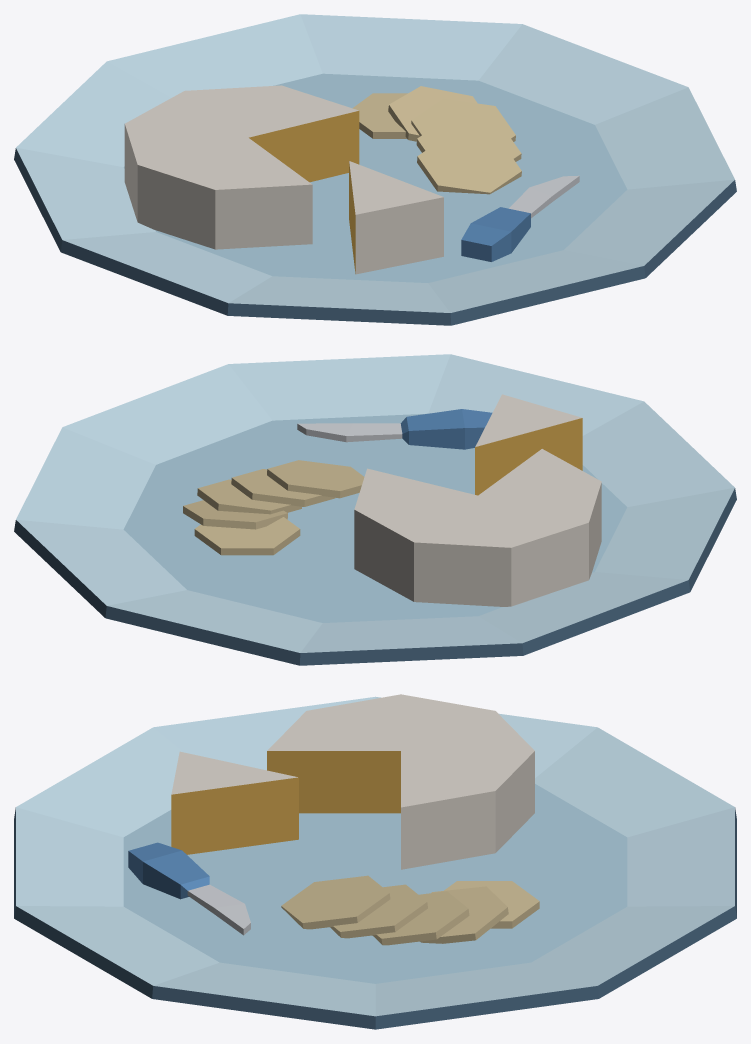
The model's file is SM_Prop_Cheese_01.fbx.
The picture shows the model from 3 angles, top to bottom: view 1: azimuth 30°, elevation 25°; view 2: azimuth 150°, elevation 25°; view 3: azimuth 270°, elevation 25°; orthographic projection. The views are drawn at different scales.
Visible parts, largest first — view 1: SM_Prop_Cheese_01; view 2: SM_Prop_Cheese_01; view 3: SM_Prop_Cheese_01.
Boxes of the visible parts, x1,y1,x2,y2 form: SM_Prop_Cheese_01: (14,14,736,325); SM_Prop_Cheese_01: (14,354,736,665); SM_Prop_Cheese_01: (14,694,736,1029).
Bounding box in the file's own units: 55.39 × 8.09 × 52.68.
